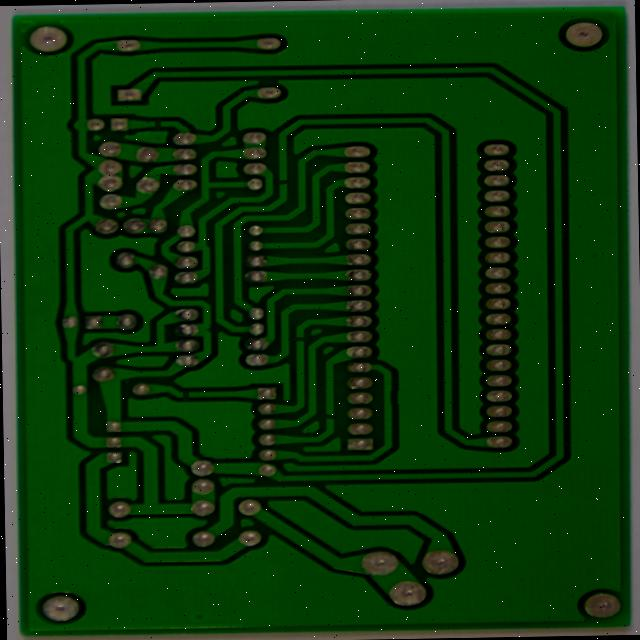open_circuit: (175, 74, 200, 87), (329, 136, 348, 150), (347, 308, 368, 320), (385, 390, 403, 404), (210, 368, 232, 379)
